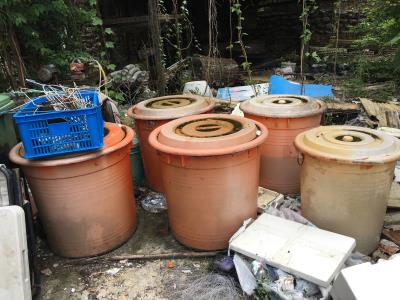bucket: (5, 120, 147, 261), (145, 112, 272, 253), (289, 123, 400, 256), (238, 93, 328, 197), (187, 48, 247, 88)
styrofoam: (230, 212, 357, 289)
